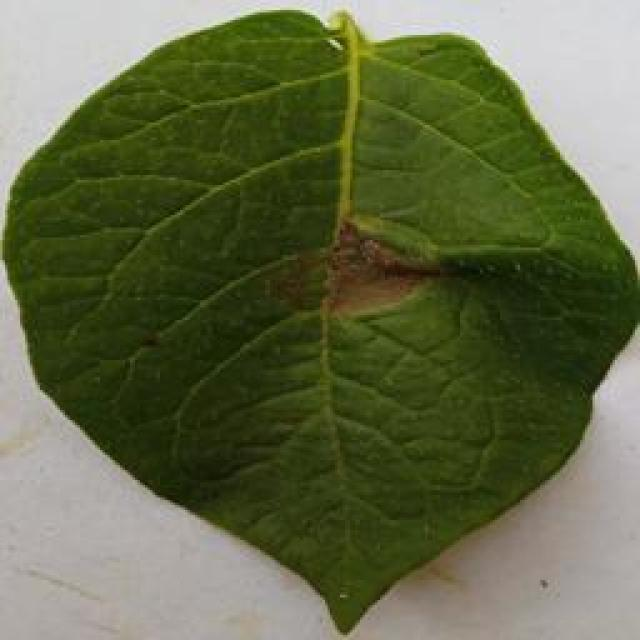Potato_Late_Blight: (4, 17, 634, 639)
